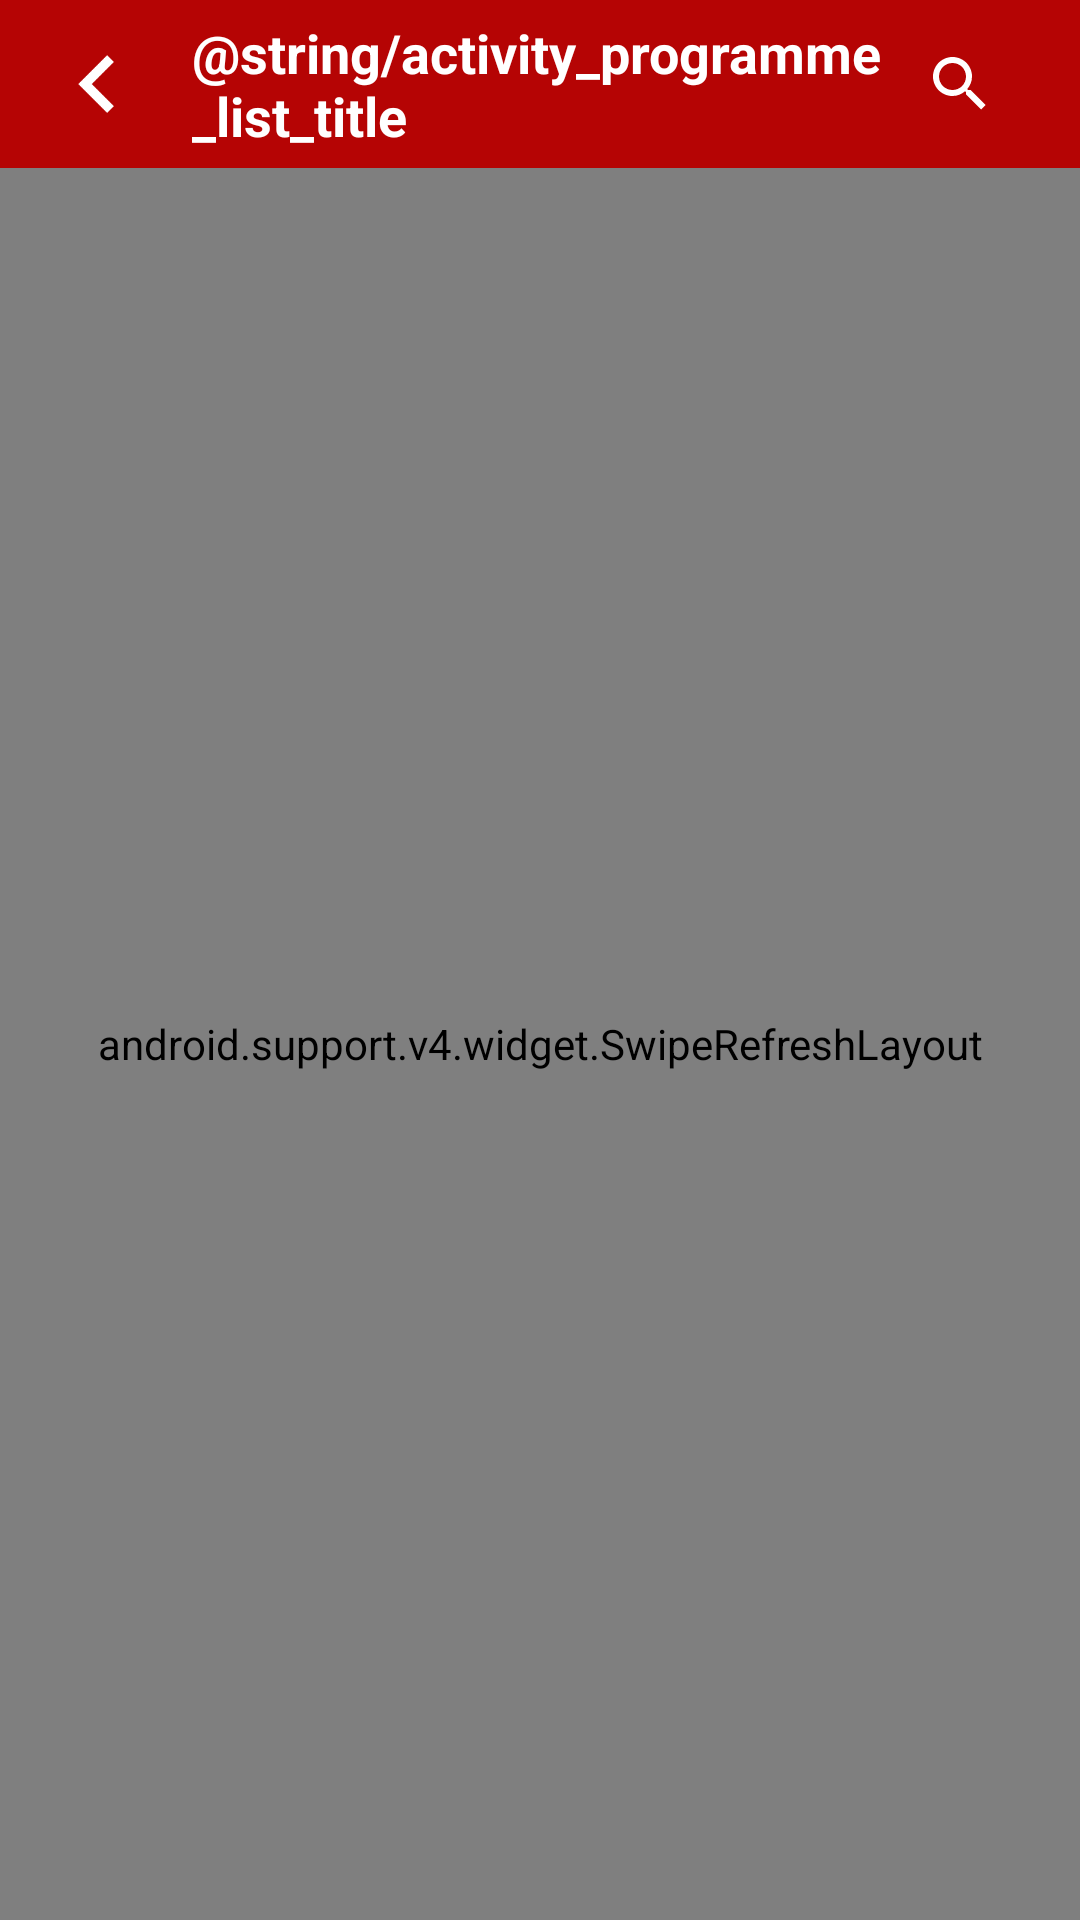

Icon click points for this 1080w x 1920h phone screenshot, format [x,y]:
back: [96,84]
